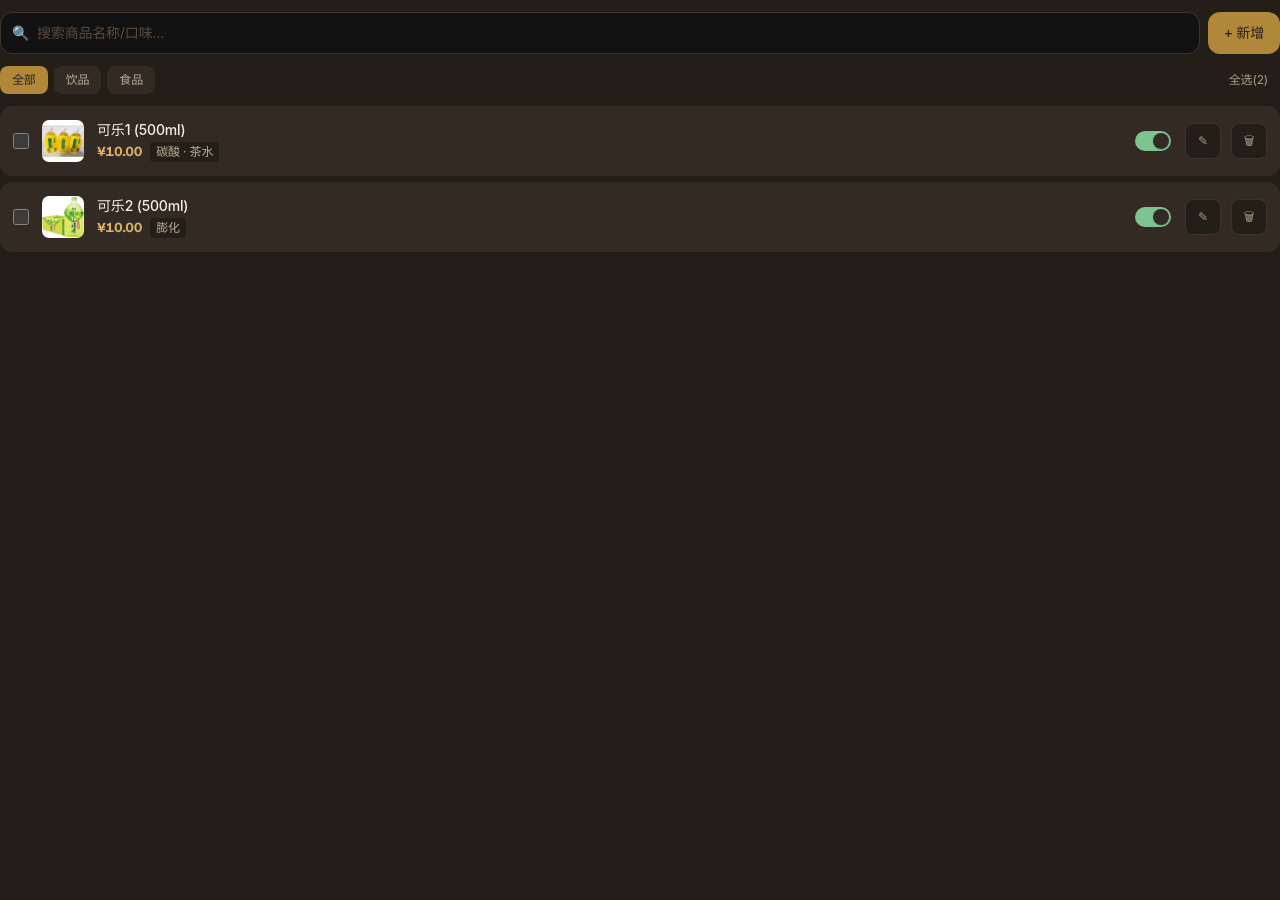
Test: 批量上下架与删除 › 批量删除第一下只进入待确认态，不发请求
Click the checkbox named "选择 可乐1" at (21, 141), box [13,133,29,149]
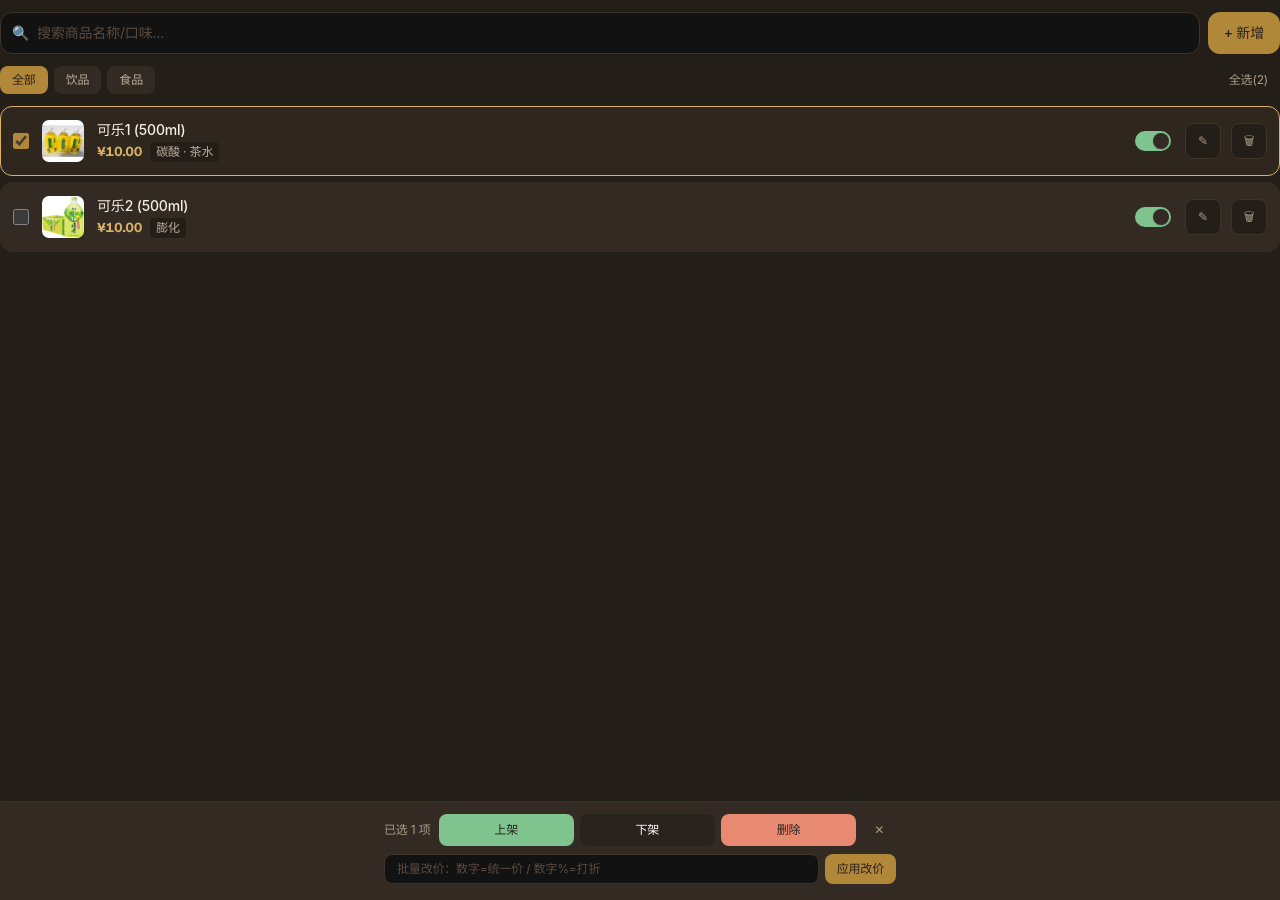
Click the button with aria-label "批量删除选中商品" at (789, 830), box [721,814,856,846]
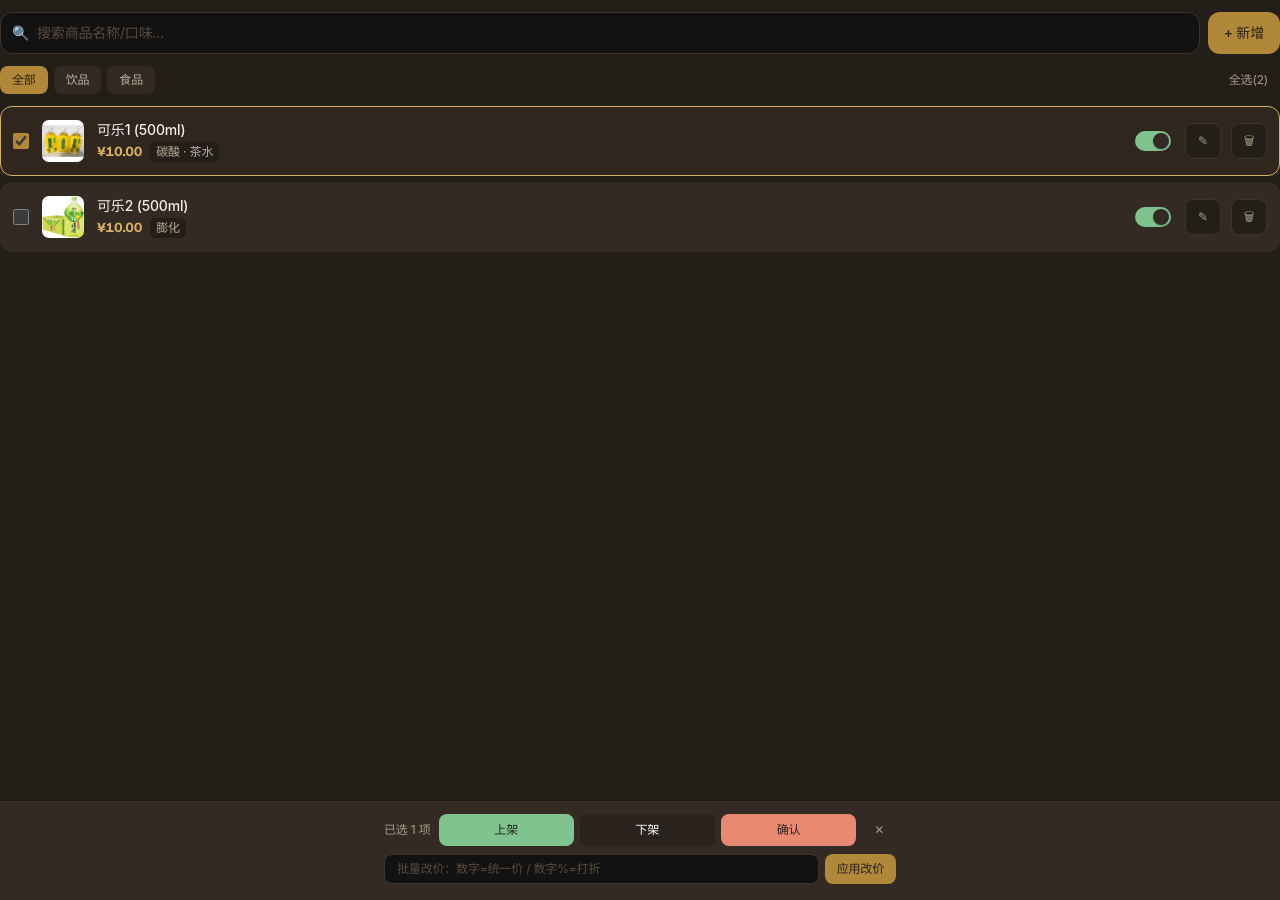
Expected: the button with aria-label "确认删除选中的" is shown, [721,814,856,846]
